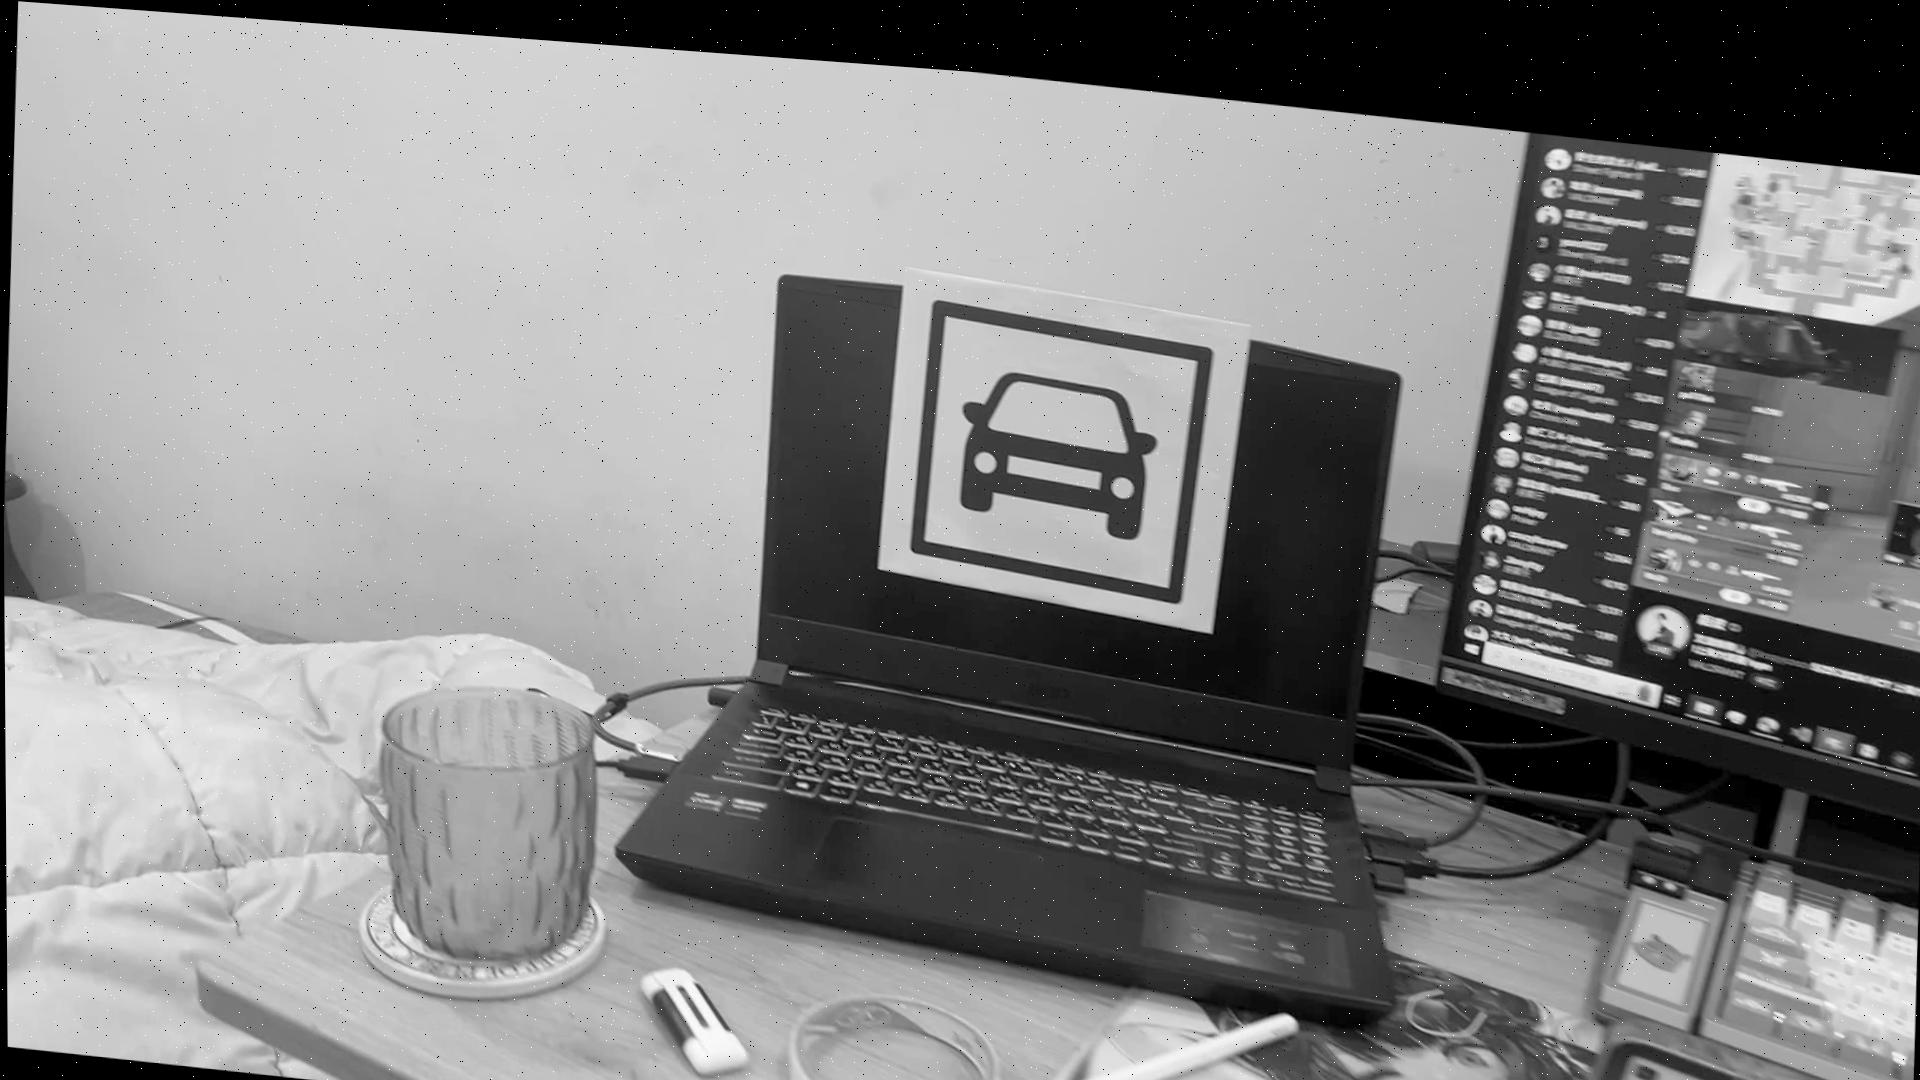car_img: (906, 282, 1217, 591)
